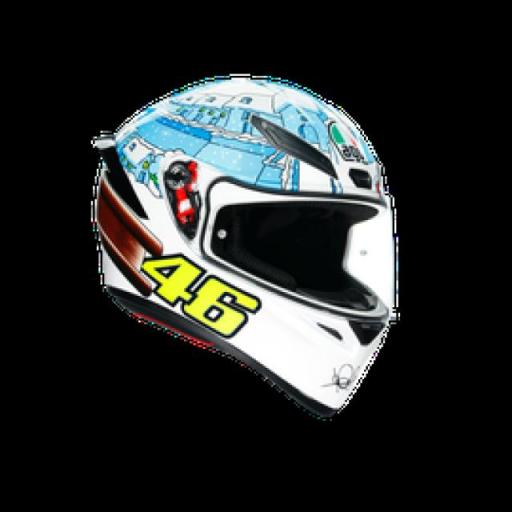Helmet: (95, 78, 395, 416)
